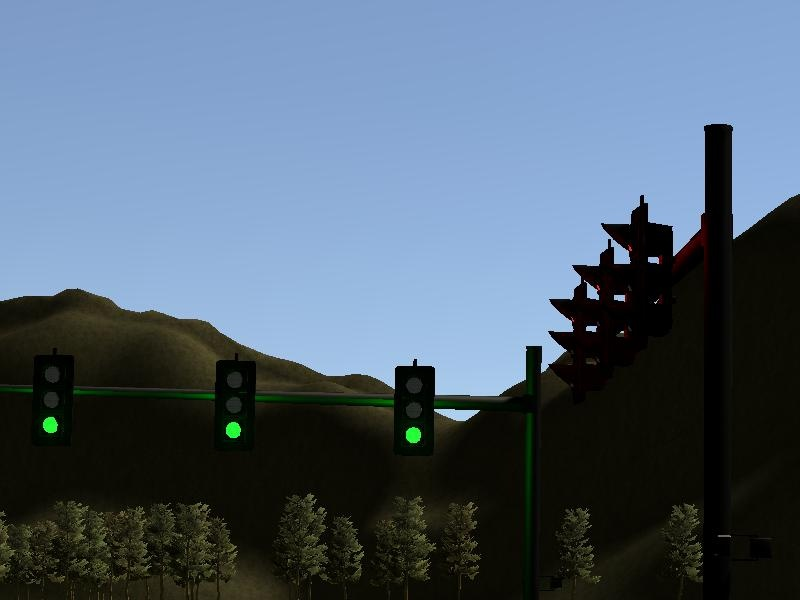Green: (214, 358, 257, 455), (31, 353, 74, 447), (394, 364, 436, 458)
